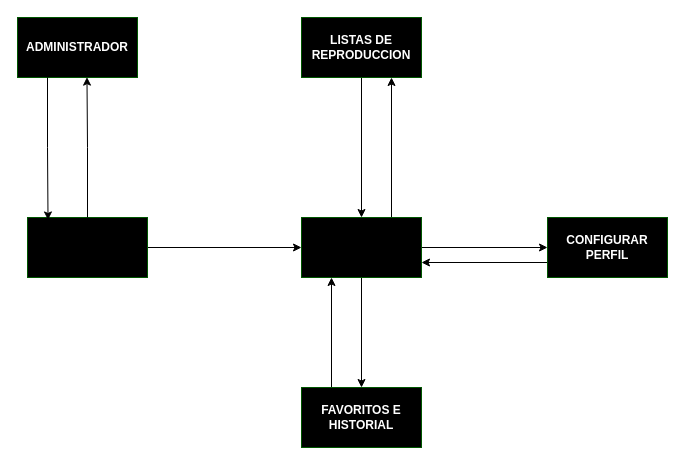
Some shapes in this 685 by 465 pixel diagram are drawn without their labels. The centre of each missing label's shape, as x and y in pixels:
"BUSQUEDA Y REPRODUCCION" belongs at (x=361, y=247).
"LOGIN" belongs at (x=87, y=247).
